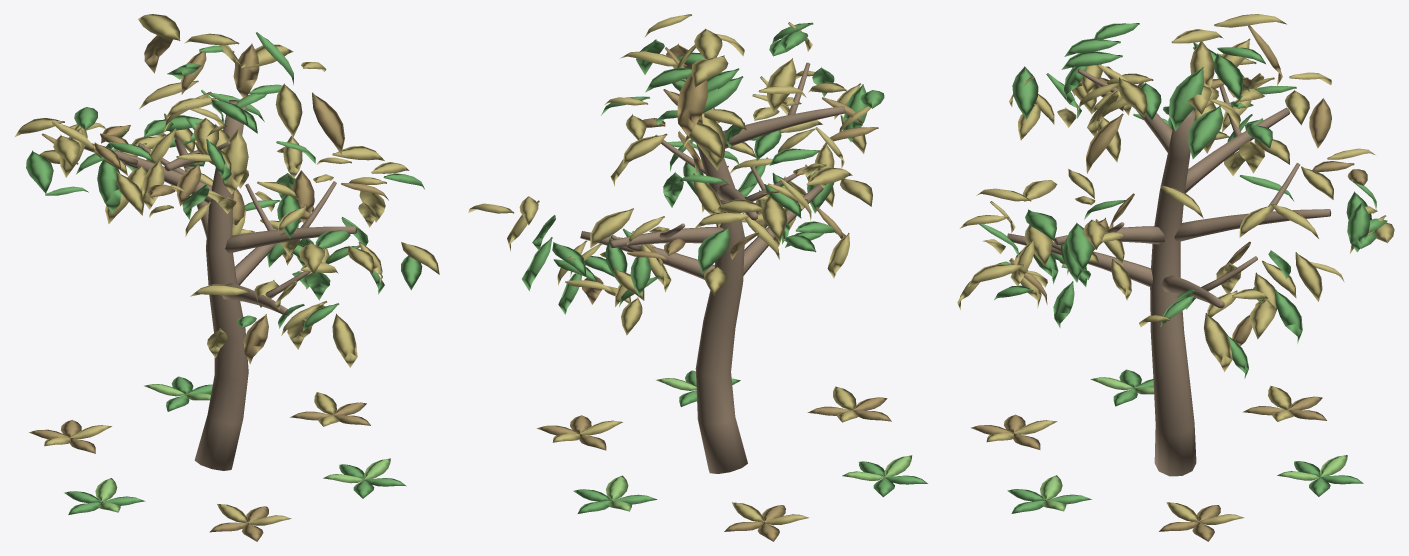
The model's file is SM_PlantTreeWilted.fbx.
3 renders of one model, left to right at view 1: azimuth 30°, elevation 25°; view 2: azimuth 150°, elevation 25°; view 3: azimuth 270°, elevation 25°, orthographic. The views are drawn at different scales.
Parts seen in each view (by area): view 1: PlantTreeWilted; view 2: PlantTreeWilted; view 3: PlantTreeWilted.
Boxes of the visible parts, bbox=[...] form: PlantTreeWilted: bbox=[14, 14, 439, 541]; PlantTreeWilted: bbox=[468, 14, 927, 541]; PlantTreeWilted: bbox=[957, 14, 1394, 541].
Bounding box in the file's own units: 1.64 × 1.76 × 1.57.
